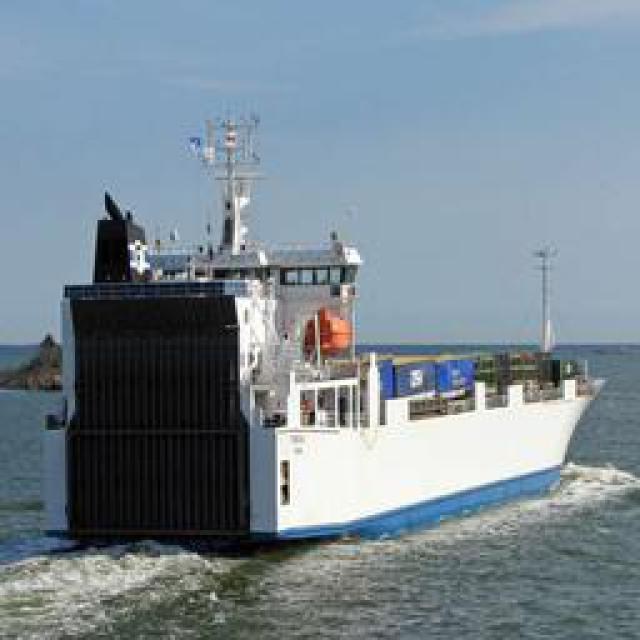Ship: (41, 164, 599, 554)
